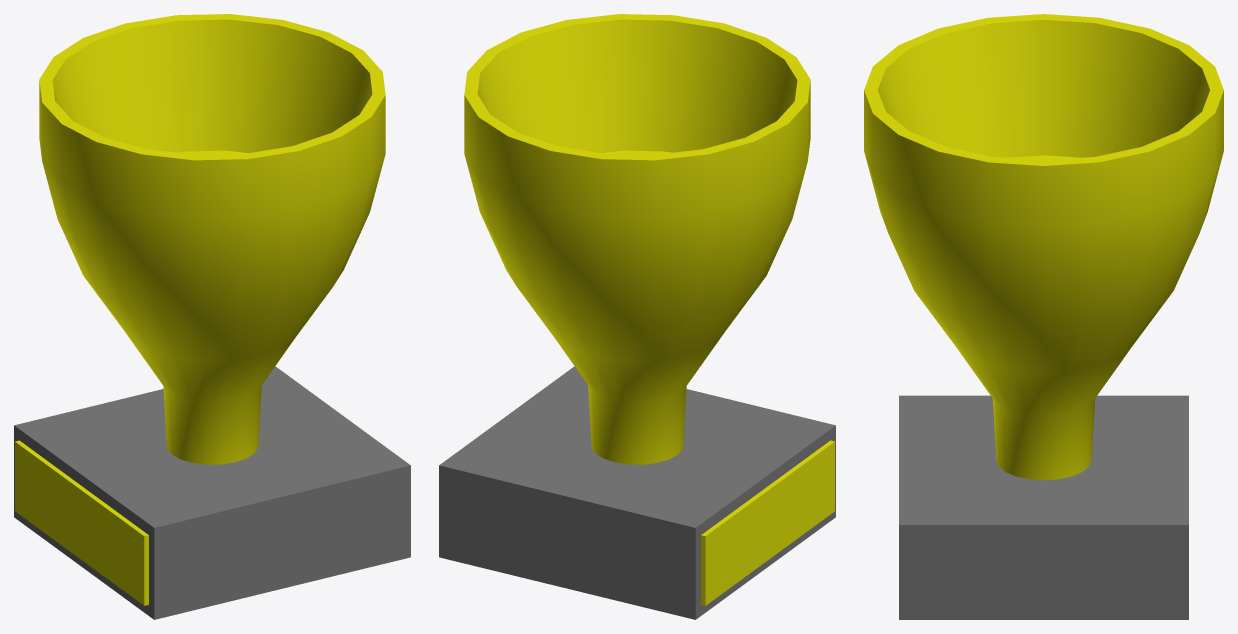
The model's file is trophyGold.fbx.
3 renders of one model, left to right at view 1: azimuth 30°, elevation 25°; view 2: azimuth 150°, elevation 25°; view 3: azimuth 270°, elevation 25°, orthographic. The views are drawn at different scales.
Visible parts, largest first — view 1: pCylinder1, pCube1; view 2: pCylinder1, pCube1; view 3: pCylinder1, pCube1.
Part boxes in pixels (<box>): pCylinder1: <box>39,14,385,464</box>; pCube1: <box>14,366,410,619</box>; pCylinder1: <box>464,14,810,464</box>; pCube1: <box>439,366,835,619</box>; pCylinder1: <box>864,14,1223,480</box>; pCube1: <box>899,395,1188,619</box>.
Bounding box in the file's own units: 8.11 × 11.57 × 8.11.
